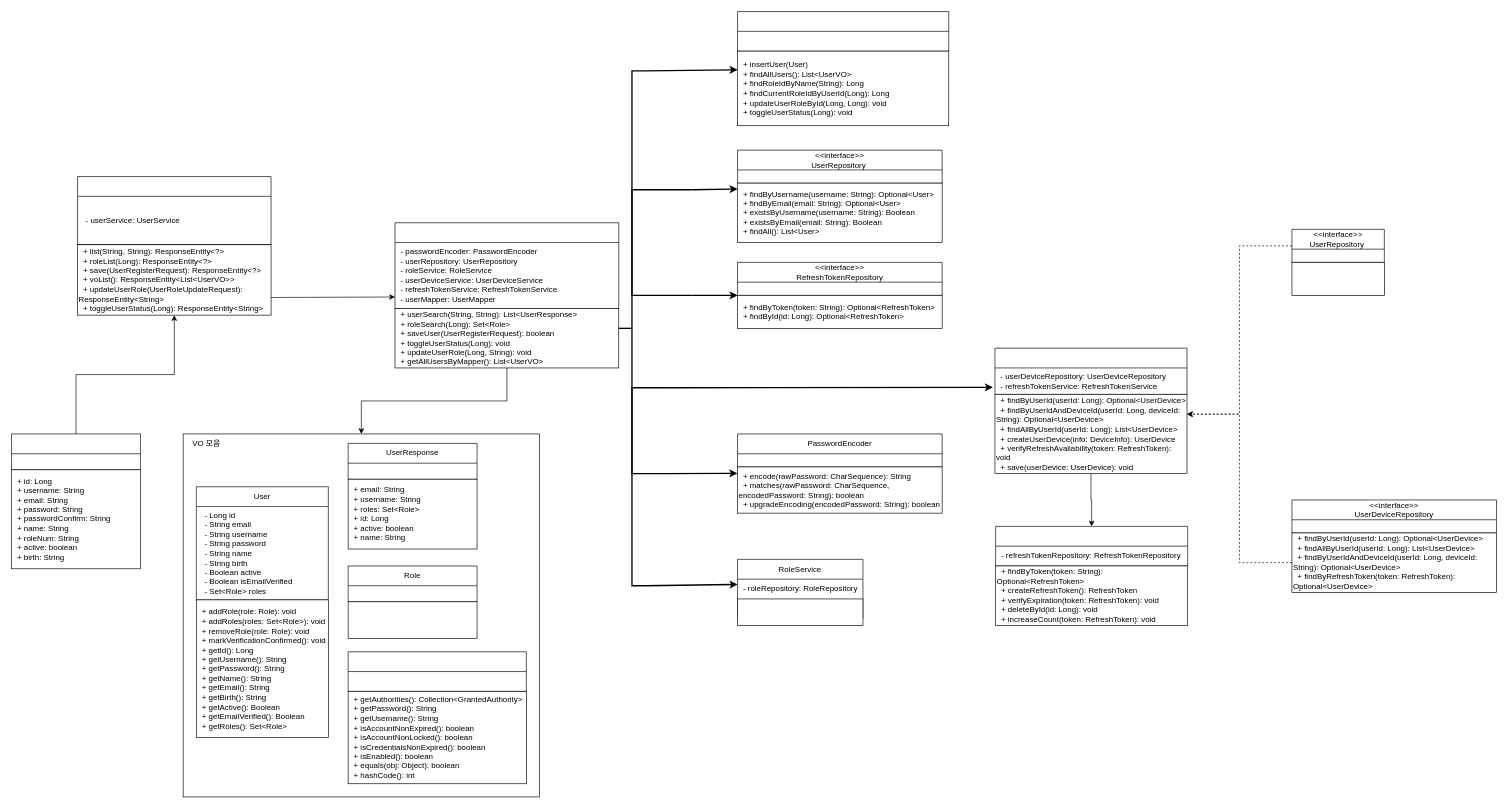
The diagram is 1508 pixels wide and 809 high, and some of its shapes have lost their labels. The shapes that lost their labels are listed below. From the top down, each one's box as (x1, y1, x2, y2) in pixels, then its label:
(737, 11, 949, 51): <<interface>> UserMapper
(77, 176, 271, 245): MemberController
(394, 222, 619, 309): UserService
(1291, 262, 1384, 295): + findAll(): List<Role>
(994, 347, 1187, 394): UserDeviceService
(11, 433, 140, 470): UserRegisterRequest
(995, 526, 1188, 566): RefreshTokenService
(347, 601, 477, 639): + id: Long + role: RoleName + userList: Set<User>
(737, 598, 863, 625): + findAll(): Collection<Role>
(347, 651, 526, 691): CustomUserDetails
